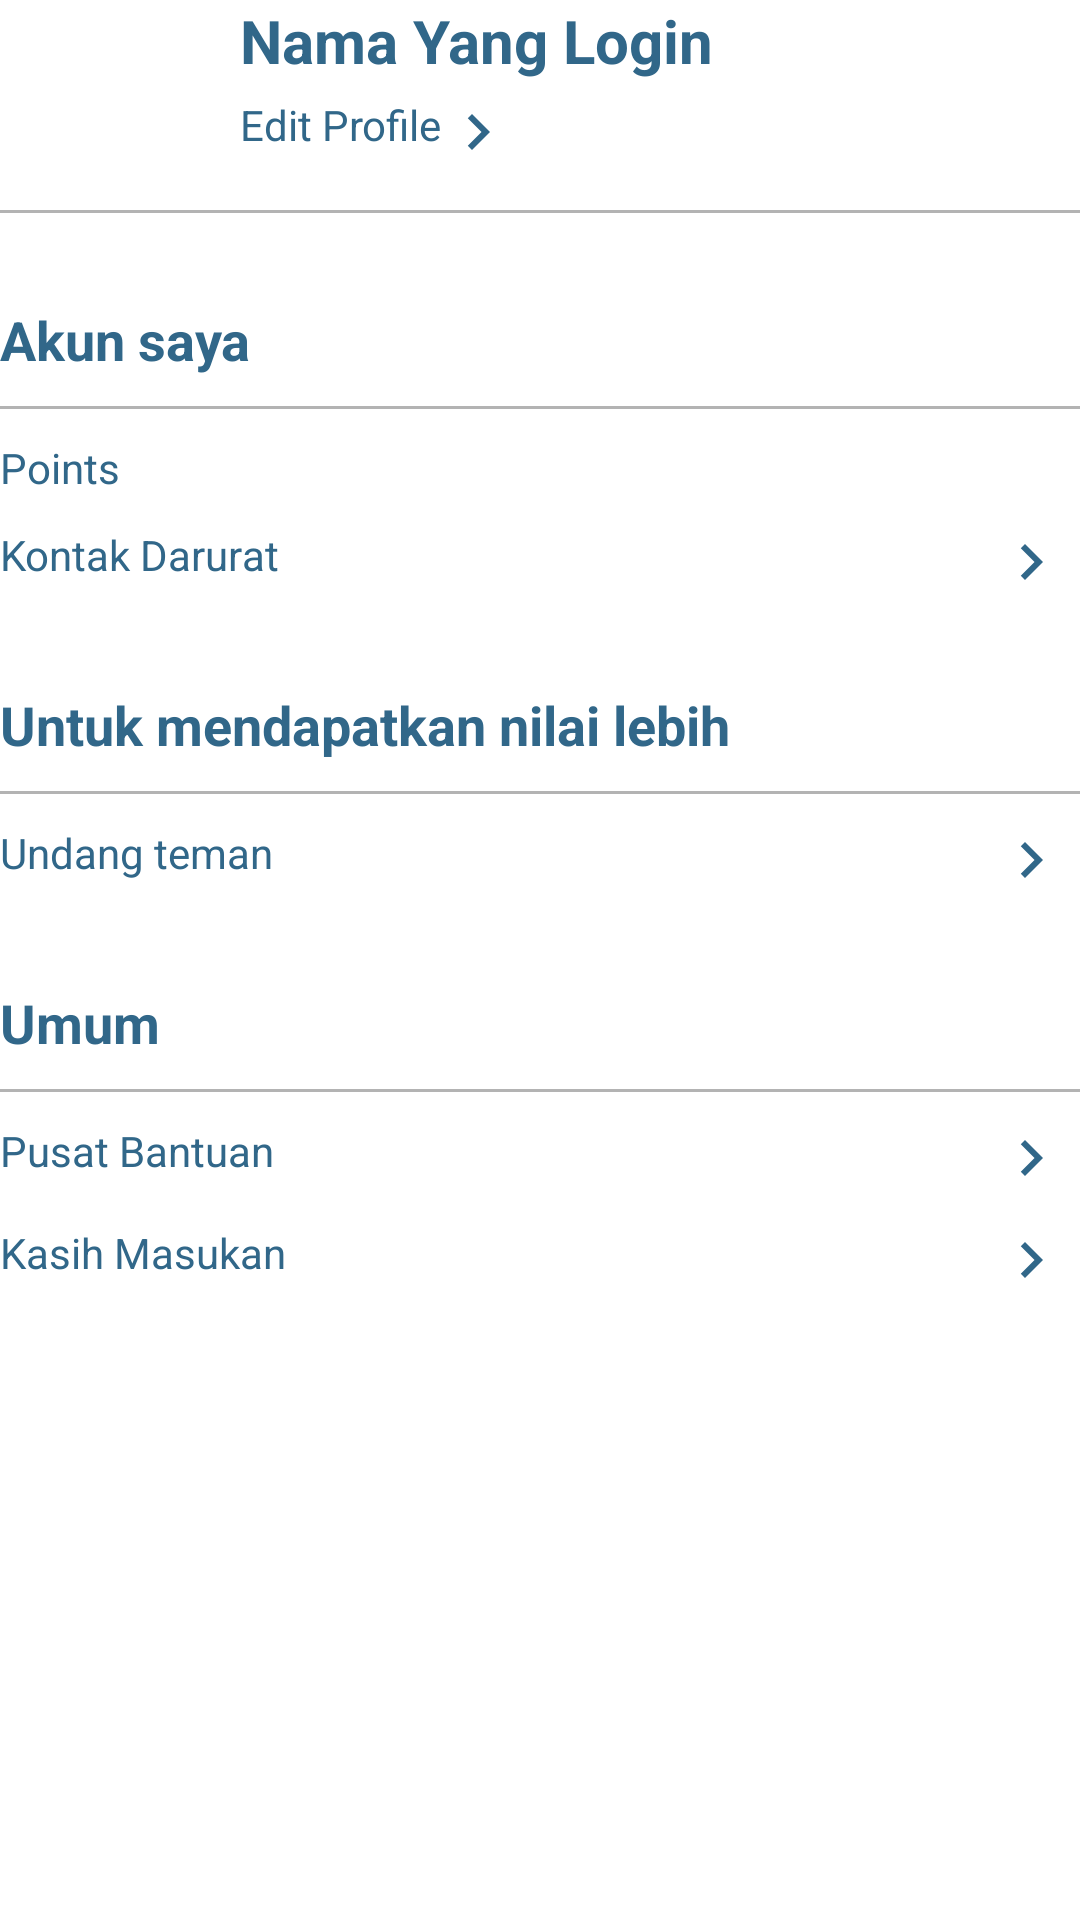

Where to tap for icons on this 1080 x 1920 app screen, as [x,y]:
chevron right: [1032,562], [1032,860], [1032,1158], [1032,1260]
